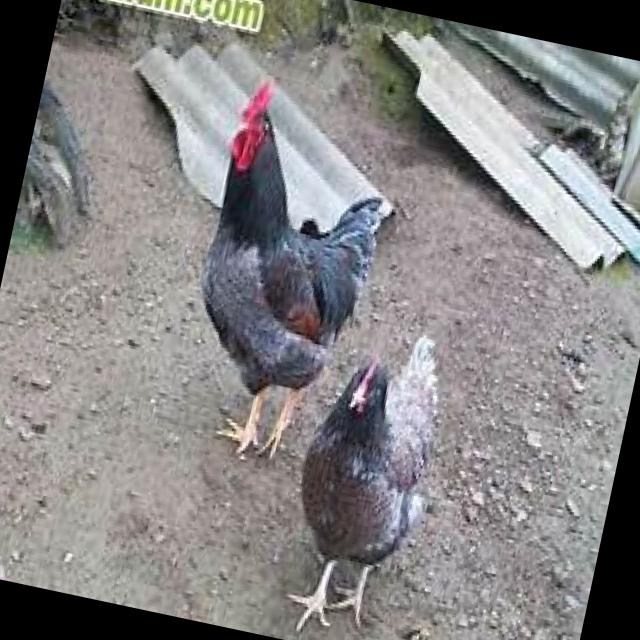chicken: (170, 80, 413, 475), (270, 317, 451, 640)
